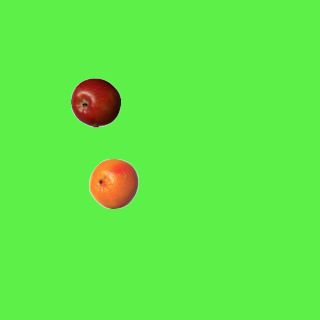Apple Braeburn: (70, 77, 120, 127)
Grapefruit Pink: (88, 158, 138, 208)
